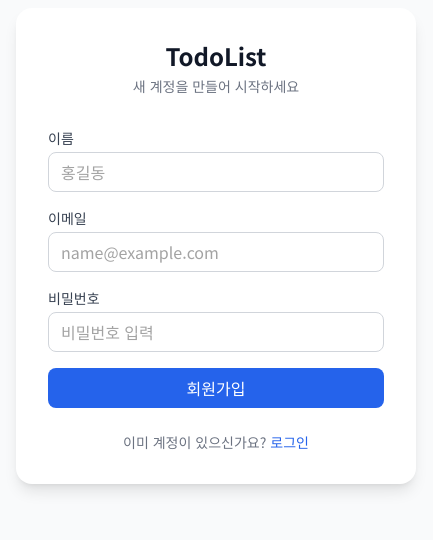
RegisterPage › 이름 미입력 시 에러 메시지가 표시된다
What coordinates should you click on to do the following:
click the button "회원가입"
I would click on:
 (216, 388)
Its box is 48,368 -> 384,408.
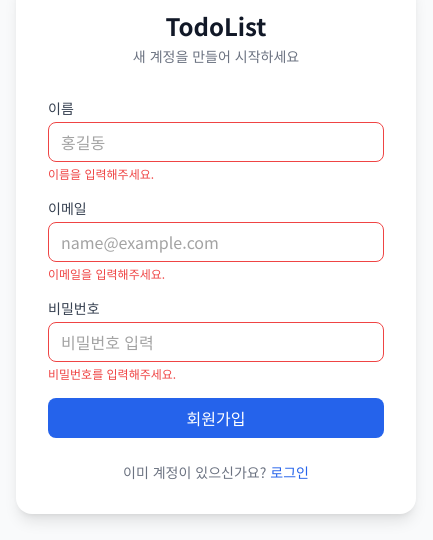
Check: the text "이름을 입력해주세요." is shown, box 48,165 -> 154,182
